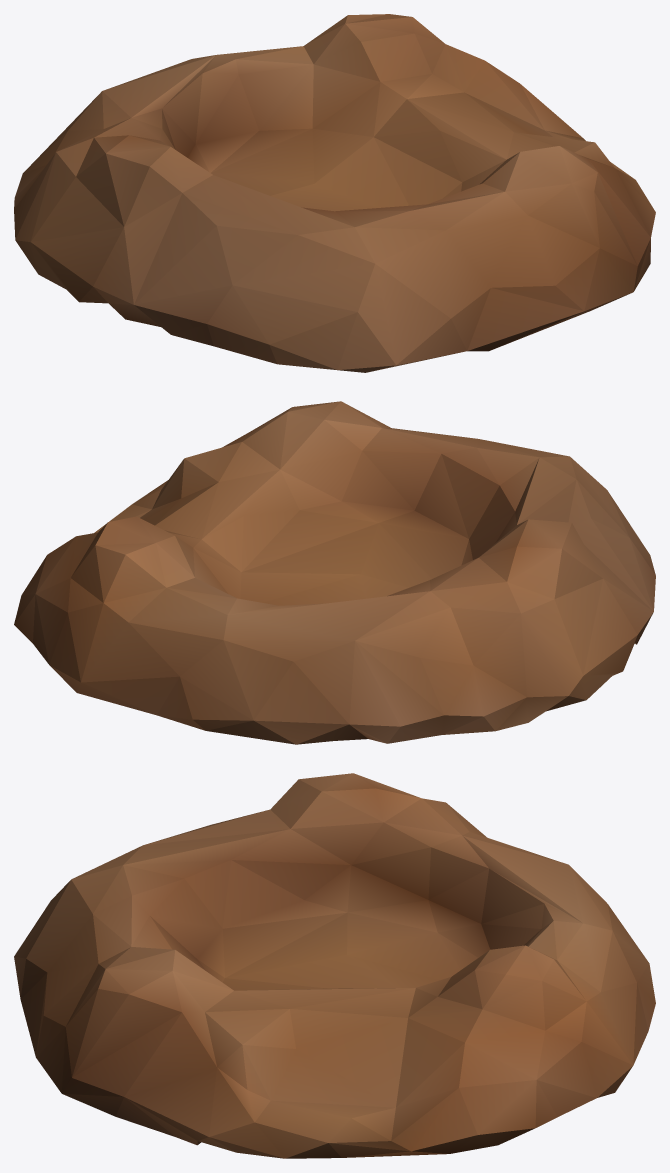
The model's file is claypit.glb.
3 renders of one model, top to bottom at view 1: azimuth 30°, elevation 25°; view 2: azimuth 150°, elevation 25°; view 3: azimuth 270°, elevation 25°, orthographic. The views are drawn at different scales.
Parts seen in each view (by area): view 1: model.001; view 2: model.001; view 3: model.001.
Part boxes in pixels (left/top/right/bottom): model.001: left=14, top=14, right=655, bottom=372; model.001: left=14, top=401, right=655, bottom=744; model.001: left=14, top=773, right=655, bottom=1158.
Bounding box in the file's own units: 1.01 × 0.2664 × 1.01.
